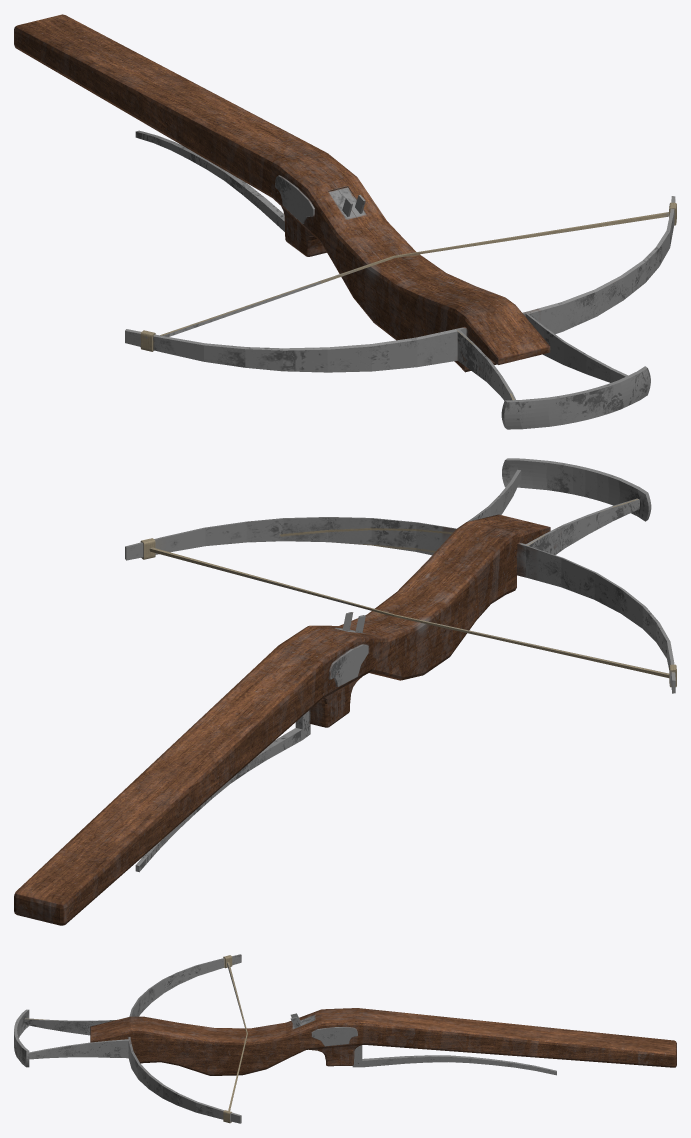
Rendered from CrossBow.fbx.
3 renders of one model, top to bottom at view 1: azimuth 30°, elevation 25°; view 2: azimuth 150°, elevation 25°; view 3: azimuth 270°, elevation 25°, orthographic. The views are drawn at different scales.
Parts seen in each view (by area): view 1: Body, Bow, CrossBow; view 2: Body, Bow, CrossBow; view 3: Body, Bow, CrossBow.
Part boxes in pixels (x1,y1,x2,y2): Body: (14, 14, 550, 372); Bow: (125, 196, 675, 400); CrossBow: (135, 130, 668, 429); Body: (14, 514, 550, 925); Bow: (125, 469, 675, 693); CrossBow: (135, 458, 669, 872); Body: (90, 1008, 676, 1075); Bow: (24, 954, 241, 1123); CrossBow: (14, 962, 556, 1111).
Size of the model in its own units: 838 by 146 by 1449.
